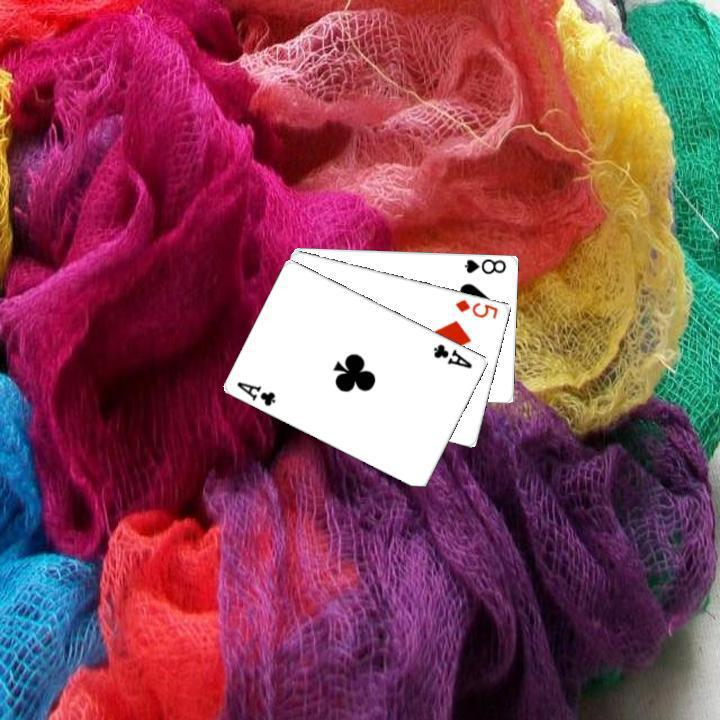5: (451, 295, 500, 321)
8: (460, 254, 508, 276)
A: (429, 339, 474, 371), (233, 377, 278, 408)
